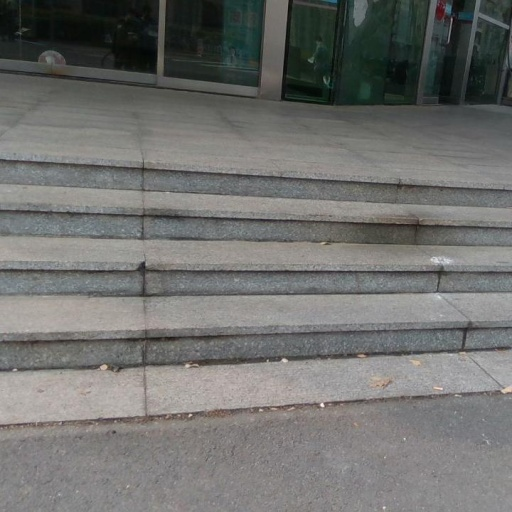Stairs: (0, 158, 512, 426)
